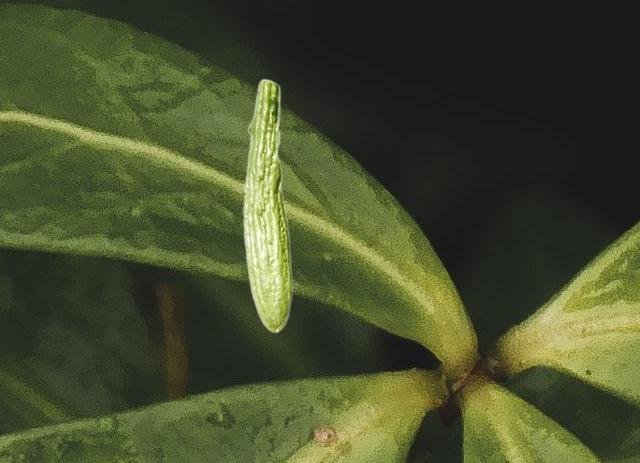ampalaya: (240, 78, 294, 333)
